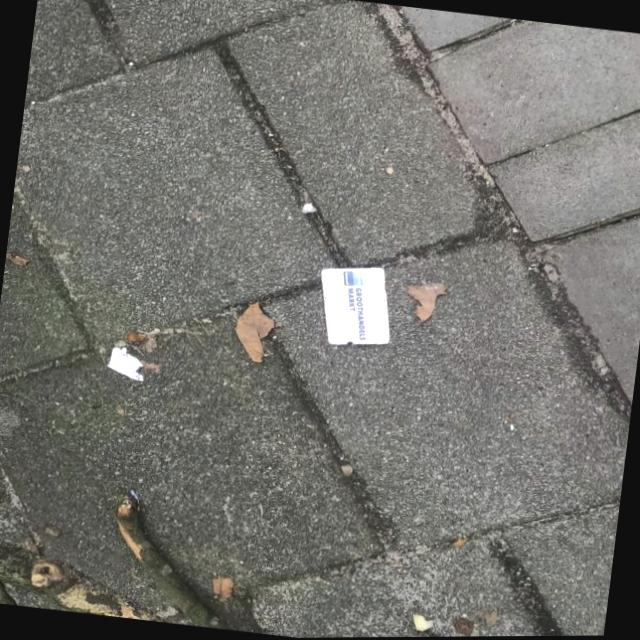Paper: (310, 257, 400, 353), (102, 342, 150, 382)
